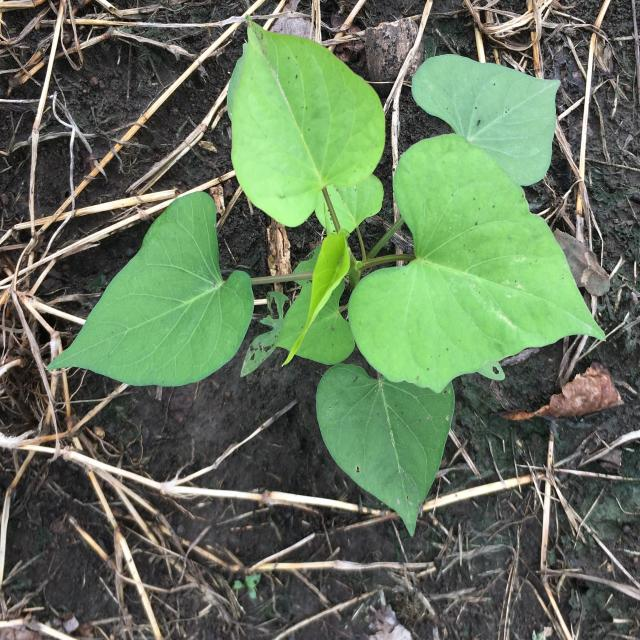MorningGlory: (47, 15, 606, 536)
